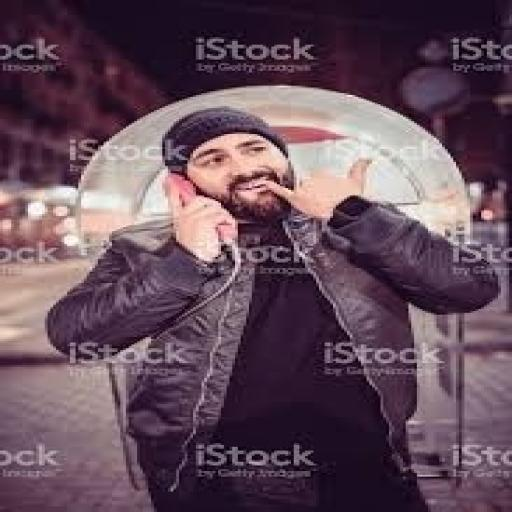calling: (42, 104, 501, 510)
